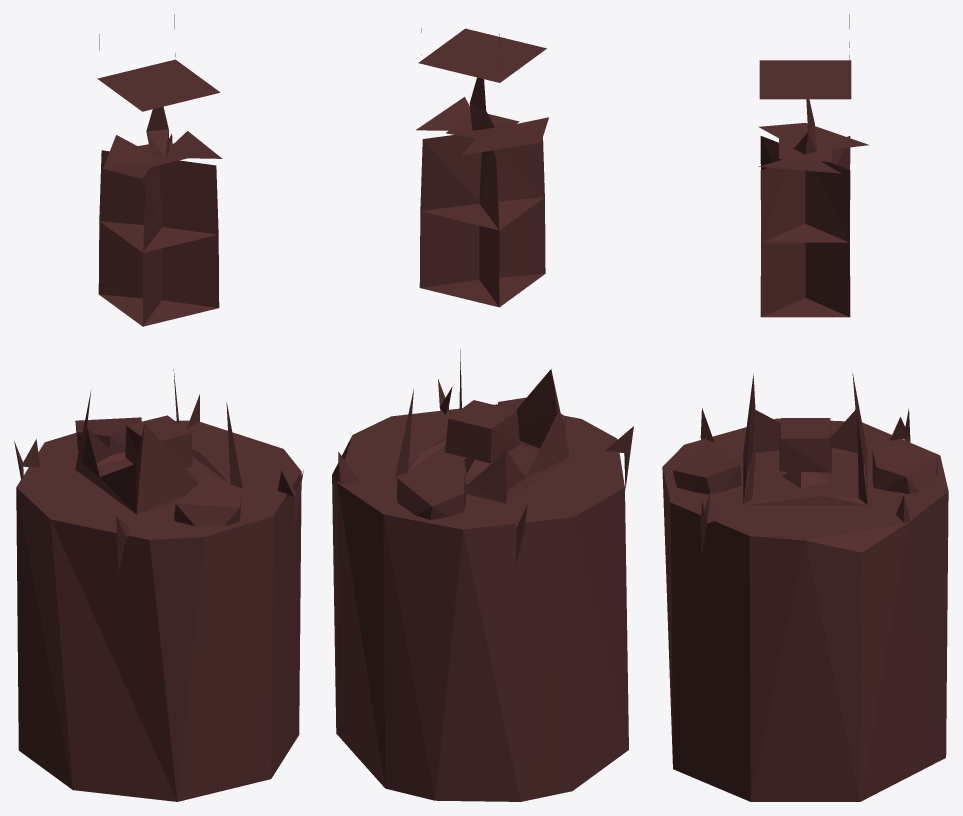
File: cove-harbour-buoy.lod1.glb
The picture shows the model from 3 angles, left to right: view 1: azimuth 30°, elevation 25°; view 2: azimuth 150°, elevation 25°; view 3: azimuth 270°, elevation 25°; orthographic projection. The views are drawn at different scales.
Visible parts, largest first — view 1: Object_4; view 2: Object_4; view 3: Object_4.
Part boxes in pixels (x1,y1,x2,y2): Object_4: [14, 14, 303, 801]; Object_4: [332, 28, 633, 801]; Object_4: [662, 14, 948, 801].
Bounding box in the file's own units: 0.9472 × 2.58 × 0.9377.
